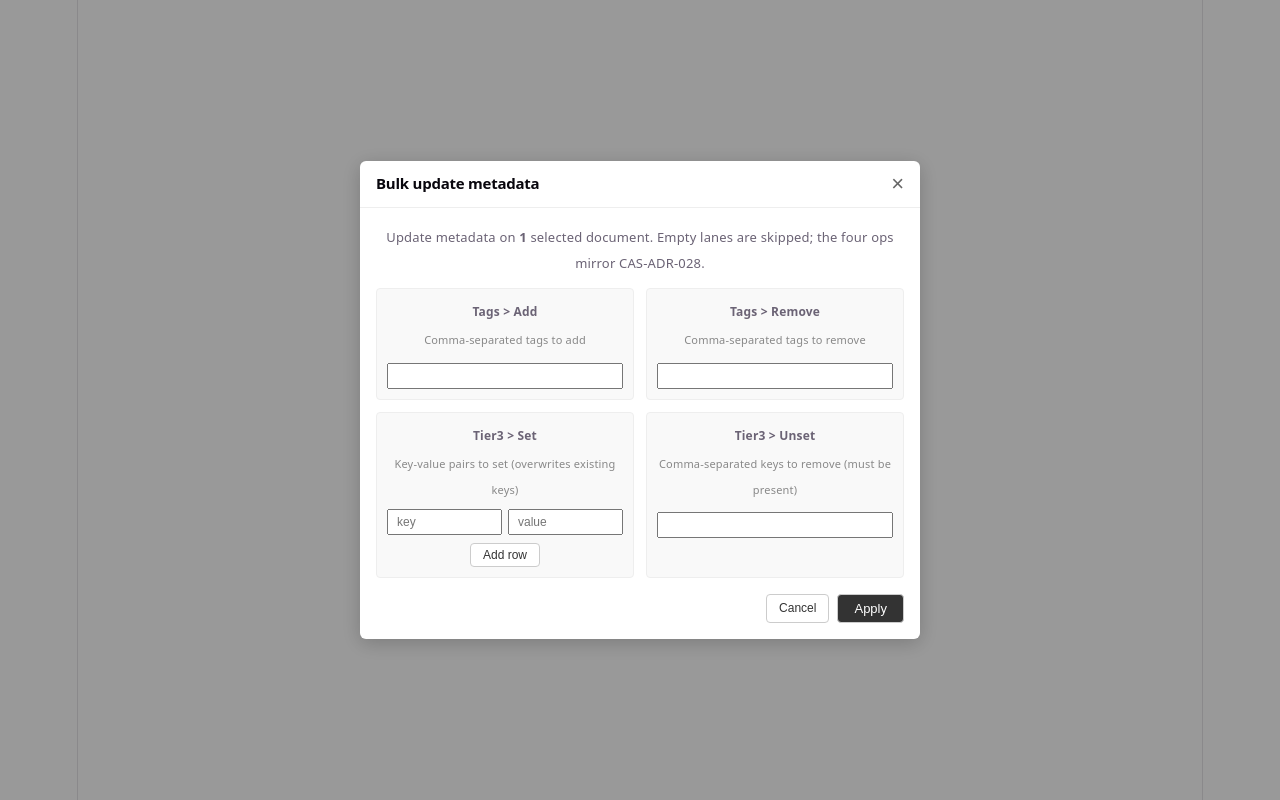
BulkMetadataDialog › renders a delete control on each row once a second row is added
Click the button "Add row".
click(505, 555)  # box [470,543,540,567]
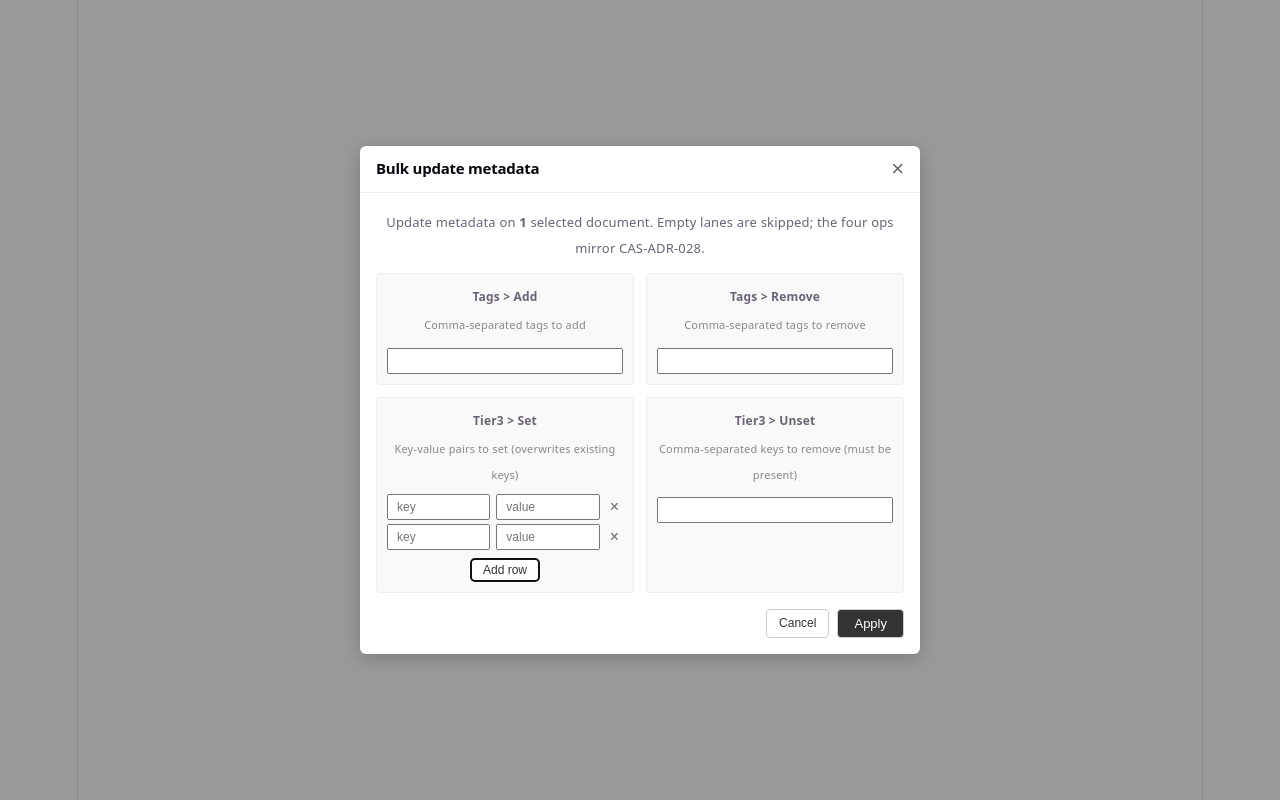
expect the button named "remove row 1" is shown: met, box [606,499,623,515]
expect the button named "remove row 2" is shown: met, box [606,529,623,545]
